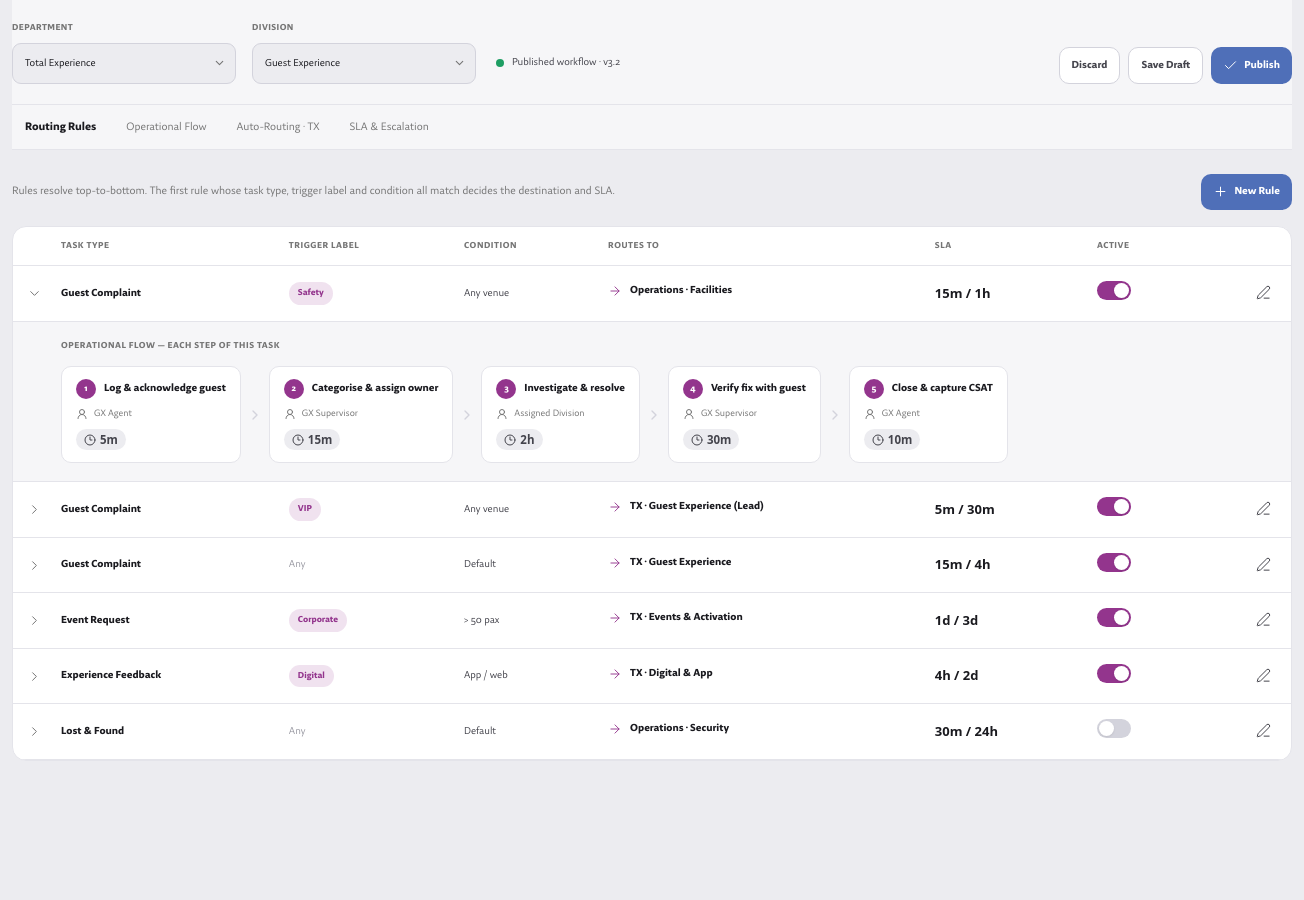
Scenario: WorkflowsPage › renders the exact four tabs and default expandable rules table
Check: the tabs read "Routing Rules", "Operational Flow", "Auto-Routing · TX", "SLA & Escalation", in this order, box x1=12 y1=105 x2=109 y2=149; x1=113 y1=105 x2=220 y2=149; x1=224 y1=105 x2=332 y2=149; x1=336 y1=105 x2=442 y2=149
Check: the text "Guest Complaint" is shown 3 times, box x1=47 y1=266 x2=275 y2=321; x1=47 y1=482 x2=275 y2=537; x1=47 y1=537 x2=275 y2=593
Step 1. Click the text "Event Request" → (652, 621), box x1=13 y1=593 x2=1291 y2=648
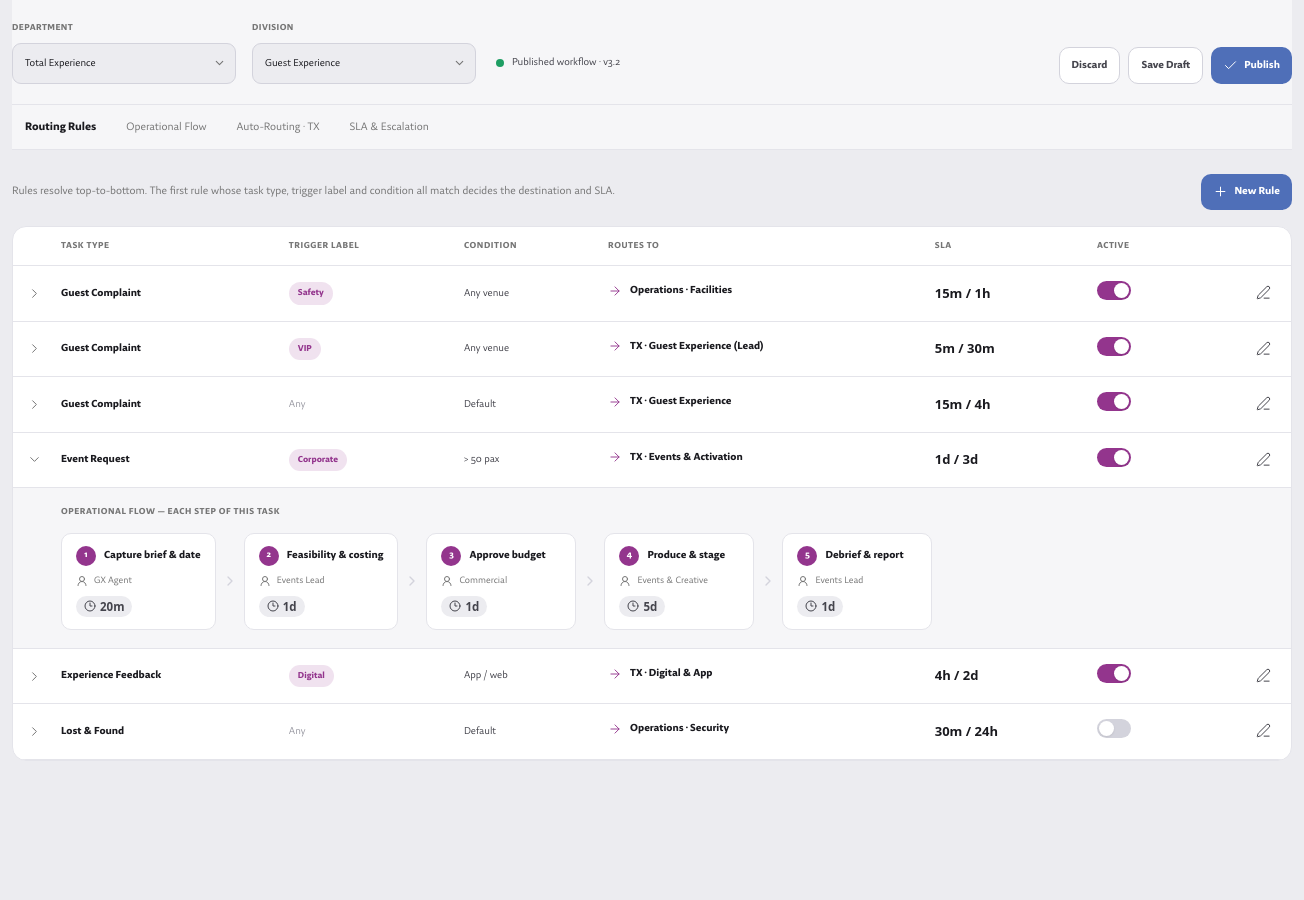
Check: the text "Capture brief & date" is shown, box x1=104 y1=546 x2=201 y2=565
Check: the text "Log & acknowledge guest" is gone
